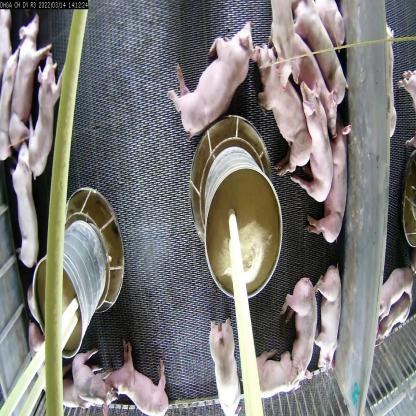Pig: (164, 24, 254, 135), (256, 50, 314, 174), (23, 55, 77, 172), (291, 0, 347, 111), (6, 136, 41, 284), (106, 338, 172, 415), (318, 123, 355, 258), (197, 313, 244, 416), (296, 70, 331, 206), (1, 20, 40, 142), (242, 336, 304, 407), (63, 338, 117, 415), (279, 279, 319, 381), (318, 267, 344, 399)
